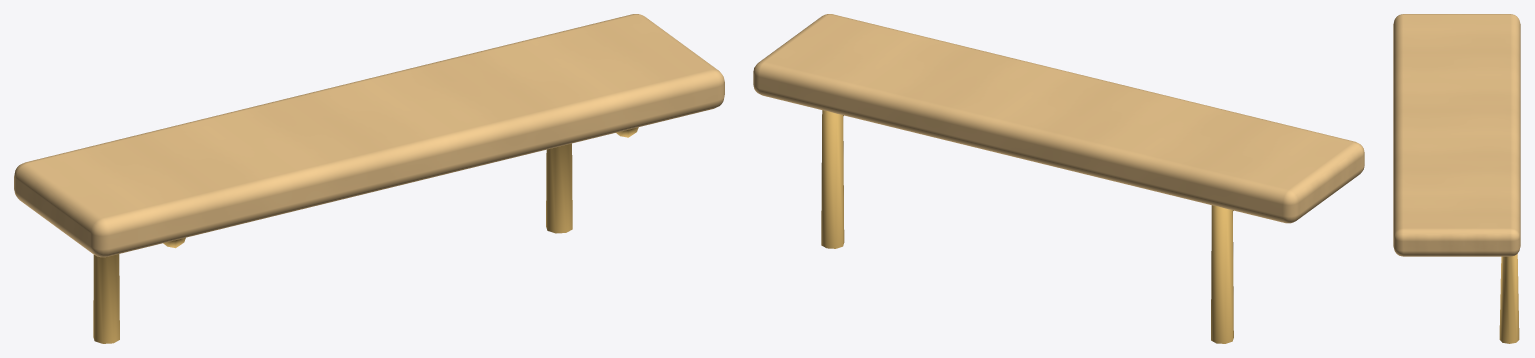
Rendered from Wall_Shelf.glb.
3 views of the same model, side by side, from view 1: azimuth 30°, elevation 25°; view 2: azimuth 150°, elevation 25°; view 3: azimuth 270°, elevation 25° (orthographic). The views are drawn at different scales.
Visible parts, largest first — view 1: Wall_Shelf; view 2: Wall_Shelf; view 3: Wall_Shelf.
Part boxes in pixels (x1,y1,x2,y2): Wall_Shelf: (14,14,724,343); Wall_Shelf: (753,14,1364,343); Wall_Shelf: (1393,14,1520,343).
Size of the model in its own units: 0.95 by 0.2775 by 0.23.
2 materials, 1 textured.
